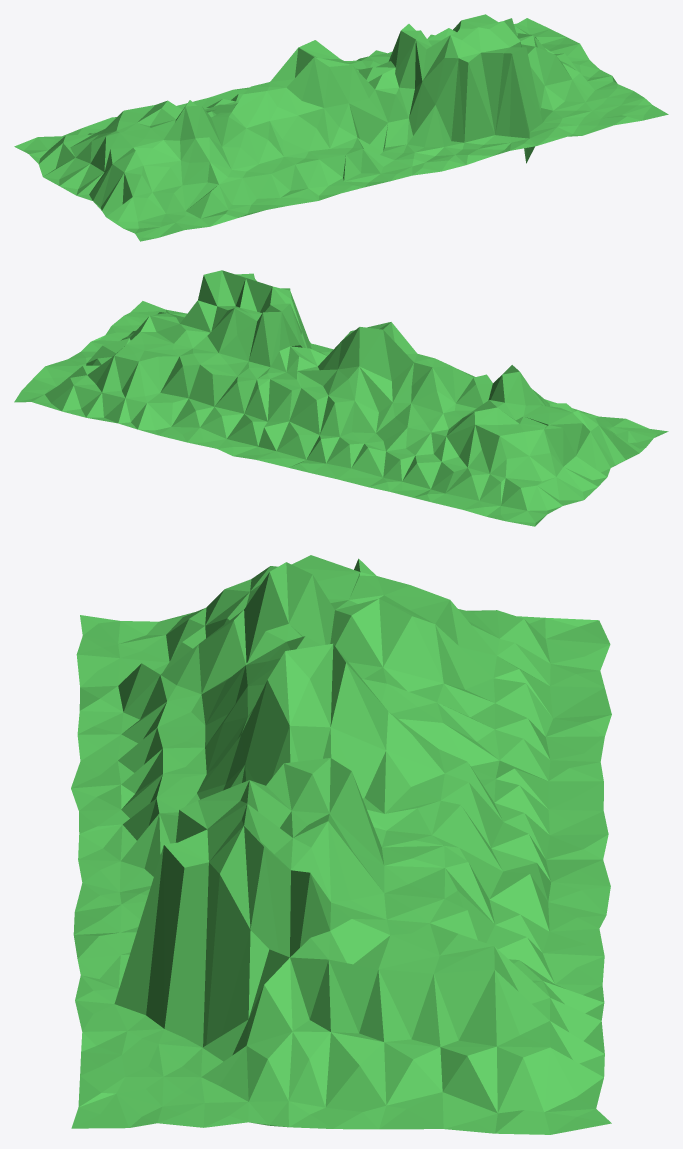
The model's file is katikatiyama.fbx.
The picture shows the model from 3 angles, top to bottom: view 1: azimuth 30°, elevation 25°; view 2: azimuth 150°, elevation 25°; view 3: azimuth 270°, elevation 25°; orthographic projection. The views are drawn at different scales.
Parts seen in each view (by area): view 1: 平面; view 2: 平面; view 3: 平面.
Boxes of the visible parts, x1,y1,x2,y2 form: 平面: (14,14,668,241); 平面: (14,270,668,526); 平面: (71,555,611,1134).
Size of the model in its own units: 6576 by 1641 by 2868.
